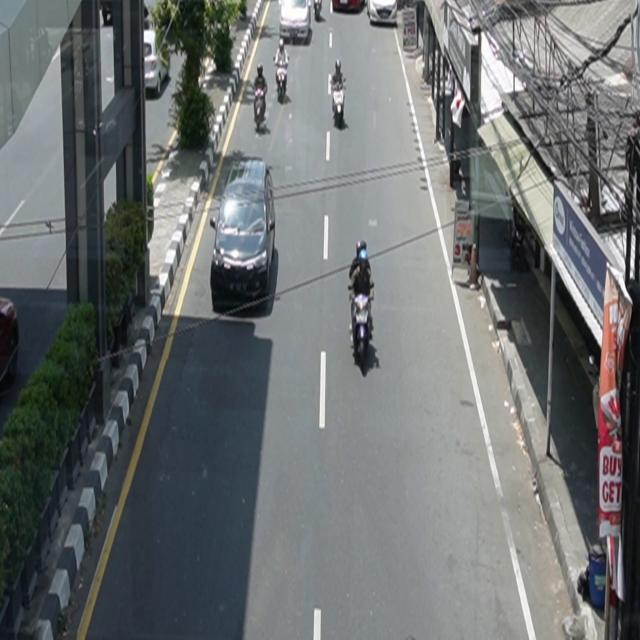car: (210, 157, 277, 301), (145, 30, 171, 96), (1, 297, 20, 386), (279, 1, 312, 44), (368, 1, 399, 26)
